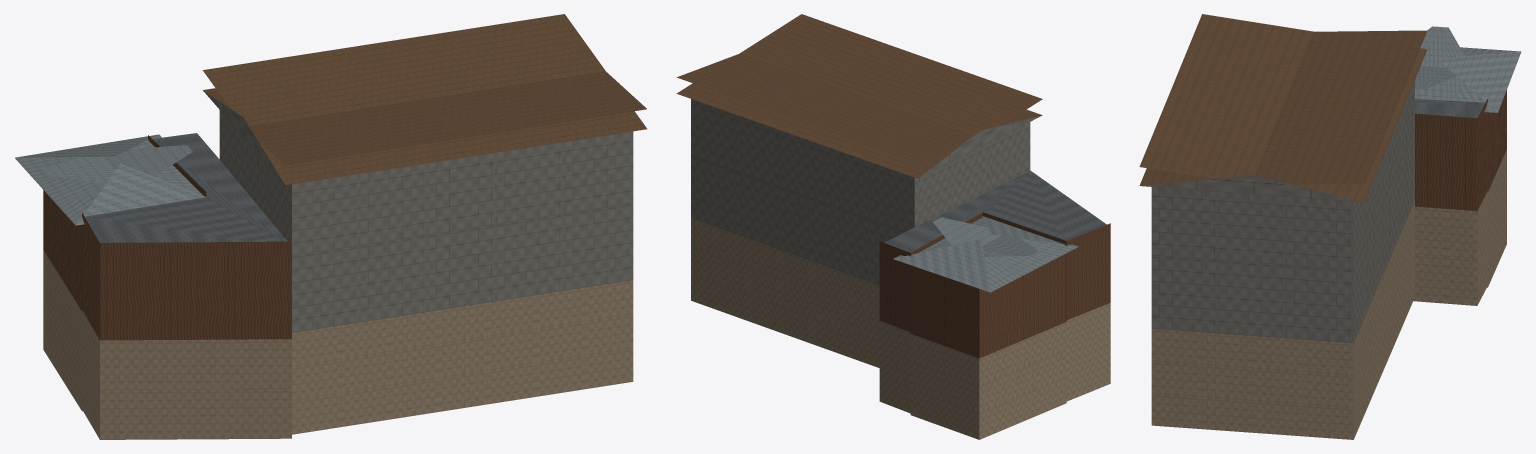
Rendered from bld_c35_37_297.gltf.
3 renders of one model, left to right at view 1: azimuth 30°, elevation 25°; view 2: azimuth 150°, elevation 25°; view 3: azimuth 270°, elevation 25°, orthographic. The views are drawn at different scales.
Visible parts, largest first — view 1: bld_c35_37_297; view 2: bld_c35_37_297; view 3: bld_c35_37_297.
Part boxes in pixels (left/top/right/bottom): bld_c35_37_297: left=15, top=14, right=647, bottom=439; bld_c35_37_297: left=676, top=14, right=1110, bottom=439; bld_c35_37_297: left=1139, top=14, right=1521, bottom=439.
Size of the model in its own units: 26.17 by 14.1 by 18.23.
Materials: 8 (8 with a texture image).
